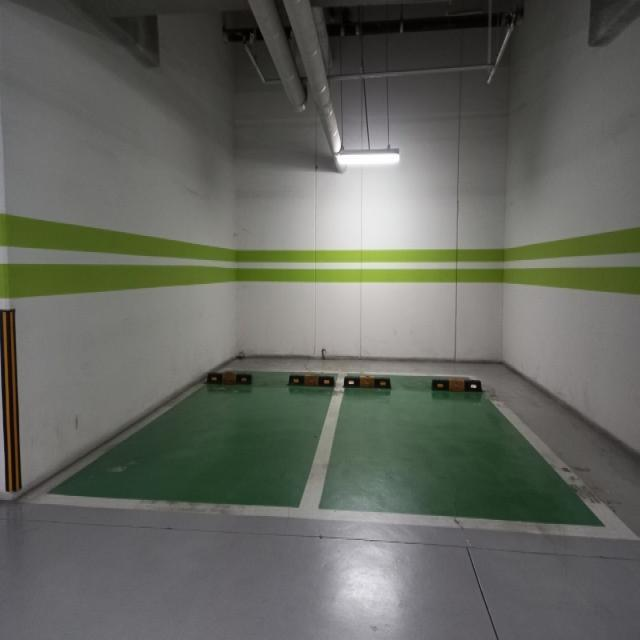empty: (336, 368, 533, 495), (167, 362, 327, 488)
